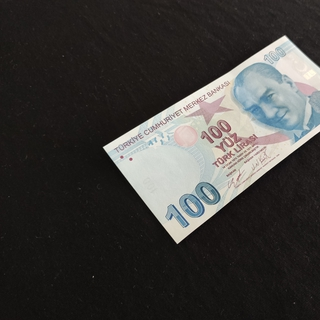100TLFront: (102, 34, 320, 245)
